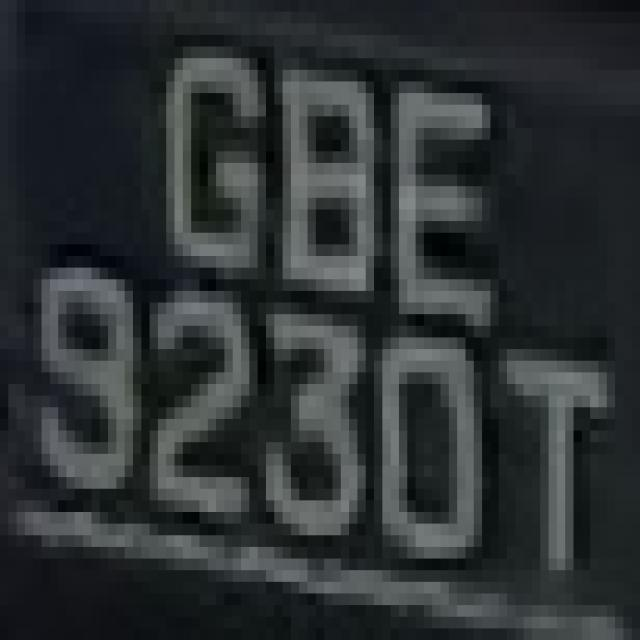0: (357, 291, 507, 582)
2: (150, 256, 258, 535)
3: (249, 279, 366, 570)
9: (8, 221, 158, 512)
B: (249, 58, 374, 326)
E: (366, 70, 515, 349)
G: (142, 70, 274, 302)
T: (465, 303, 607, 616)
